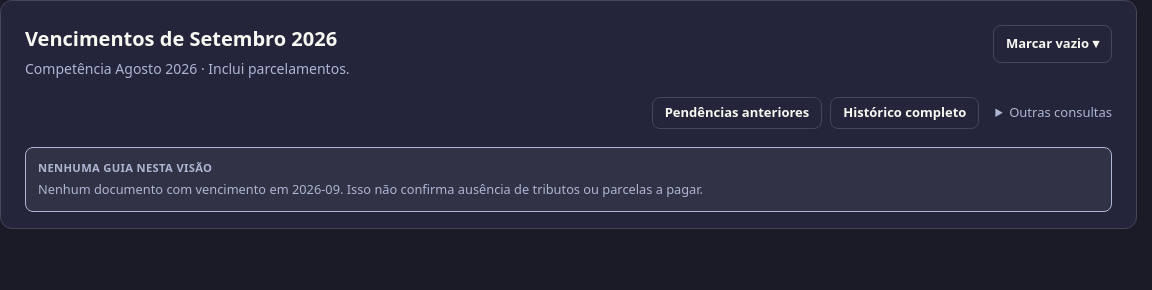
⚠ o vazio deixou de ser uma frase só › competência não apurada: diz o que falta e oferece o caminho
The width and height of the screenshot is (1152, 290).
Click the heading "Outras consultas": (1061, 112) left=1009, top=103, right=1112, bottom=121
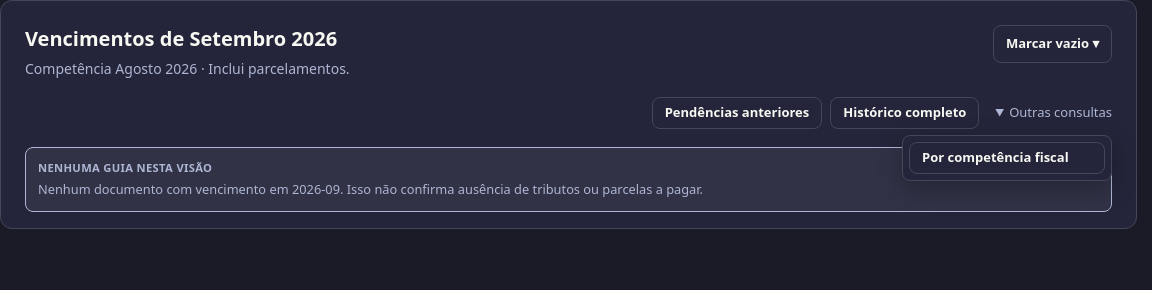
Click the button "Por competência fiscal": (1007, 158) left=909, top=142, right=1105, bottom=174
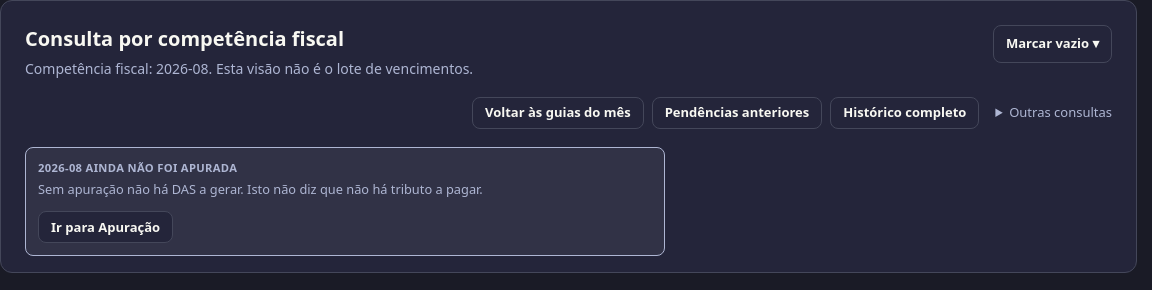
Expected: the button "Ir para Apuração" is shown, left=38, top=212, right=173, bottom=244
